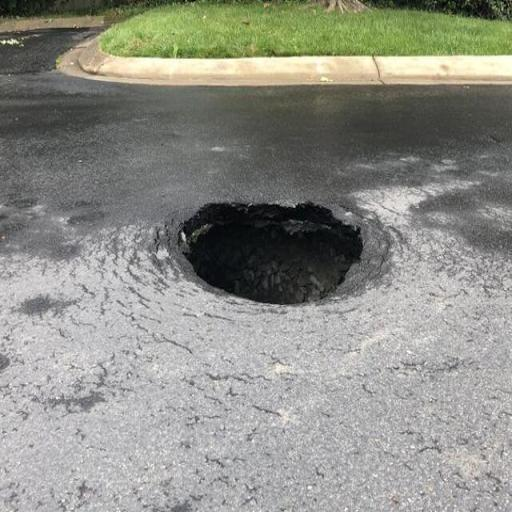Concentric_Crack: (180, 203, 363, 303)
